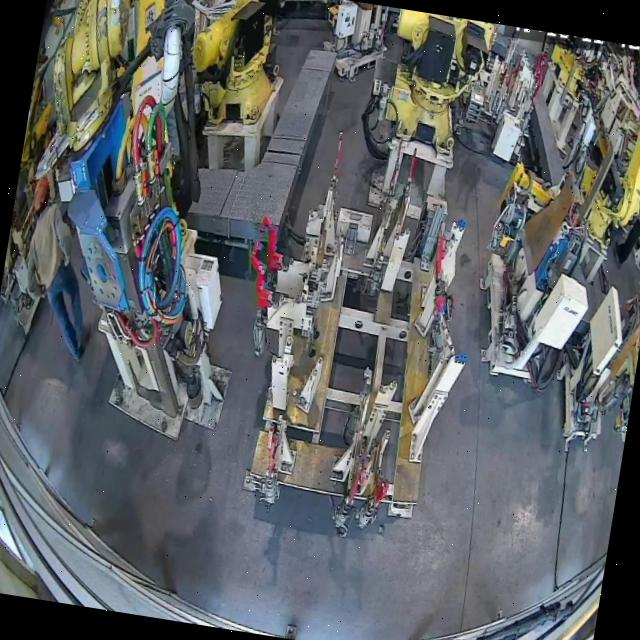Person: (12, 196, 111, 362), (608, 181, 640, 285)
